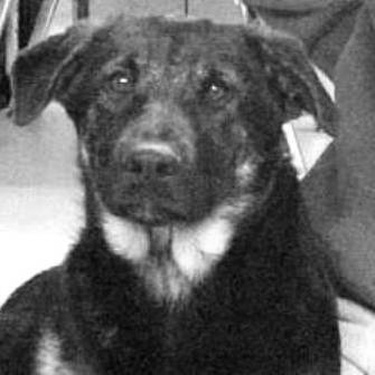dog: (1, 13, 345, 373)
